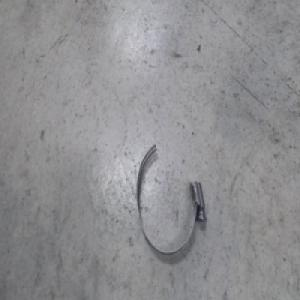AdjustableClamp: (134, 142, 202, 254)
